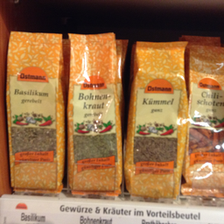spices: (5, 29, 66, 195), (128, 39, 190, 199), (66, 28, 124, 197)
